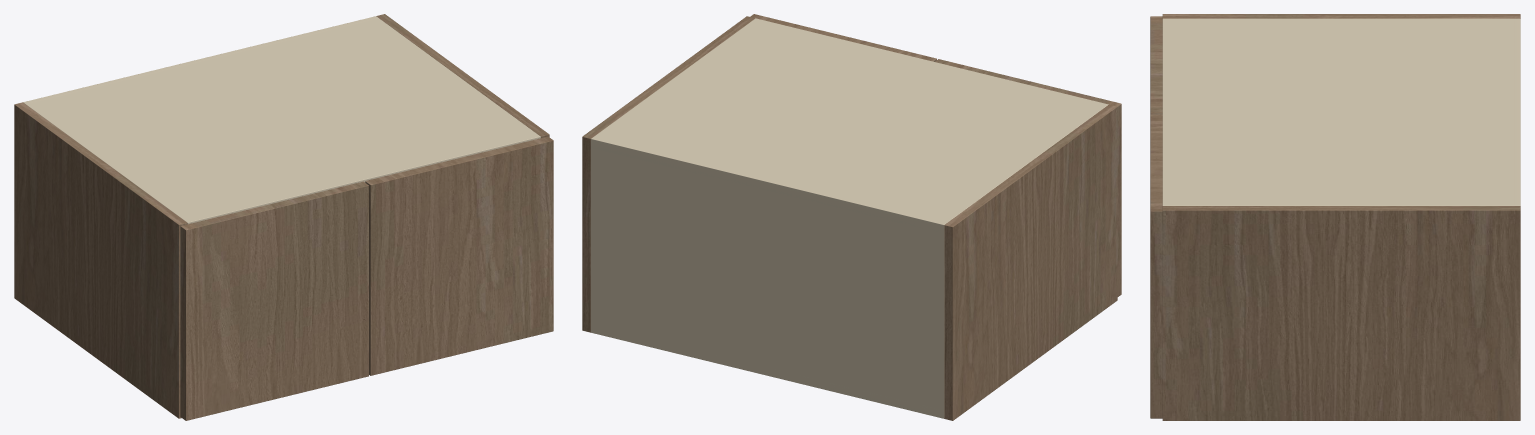
File: oppein-ply-mnw-w301524.glb
3 views of the same model, side by side, from view 1: azimuth 30°, elevation 25°; view 2: azimuth 150°, elevation 25°; view 3: azimuth 270°, elevation 25° (orthographic). The views are drawn at different scales.
Parts seen in each view (by area): view 1: Cabinet top, Door, Door.001, Cabinet side, Cabinet side.001, Cabinet back; view 2: Cabinet back, Cabinet top, Cabinet side, Cabinet side.001, Door, Door.001, Cabinet bottom; view 3: Cabinet side.001, Cabinet top, Door.001, Cabinet side, Cabinet back, Door.
Boxes of the visible parts, left/top/right/bottom form: Cabinet top: left=23, top=16, right=540, bottom=224; Door: left=180, top=181, right=368, bottom=420; Door.001: left=365, top=136, right=553, bottom=375; Cabinet side: left=14, top=102, right=187, bottom=418; Cabinet side.001: left=376, top=14, right=549, bottom=137; Cabinet back: left=24, top=16, right=378, bottom=104; Cabinet back: left=591, top=137, right=946, bottom=418; Cabinet top: left=591, top=18, right=1108, bottom=232; Cabinet side: left=944, top=104, right=1117, bottom=420; Cabinet side.001: left=582, top=16, right=754, bottom=332; Door: left=935, top=59, right=1121, bottom=296; Door.001: left=750, top=14, right=936, bottom=61; Cabinet bottom: left=651, top=347, right=943, bottom=418; Cabinet side.001: left=1162, top=206, right=1520, bottom=420; Cabinet top: left=1162, top=18, right=1520, bottom=205; Door.001: left=1150, top=114, right=1162, bottom=418; Cabinet side: left=1162, top=14, right=1520, bottom=18; Cabinet back: left=1513, top=18, right=1520, bottom=205; Door: left=1150, top=16, right=1162, bottom=114.
Bounding box in the file's own units: 0.762 × 0.381 × 0.6064.
2 materials, 1 textured.
